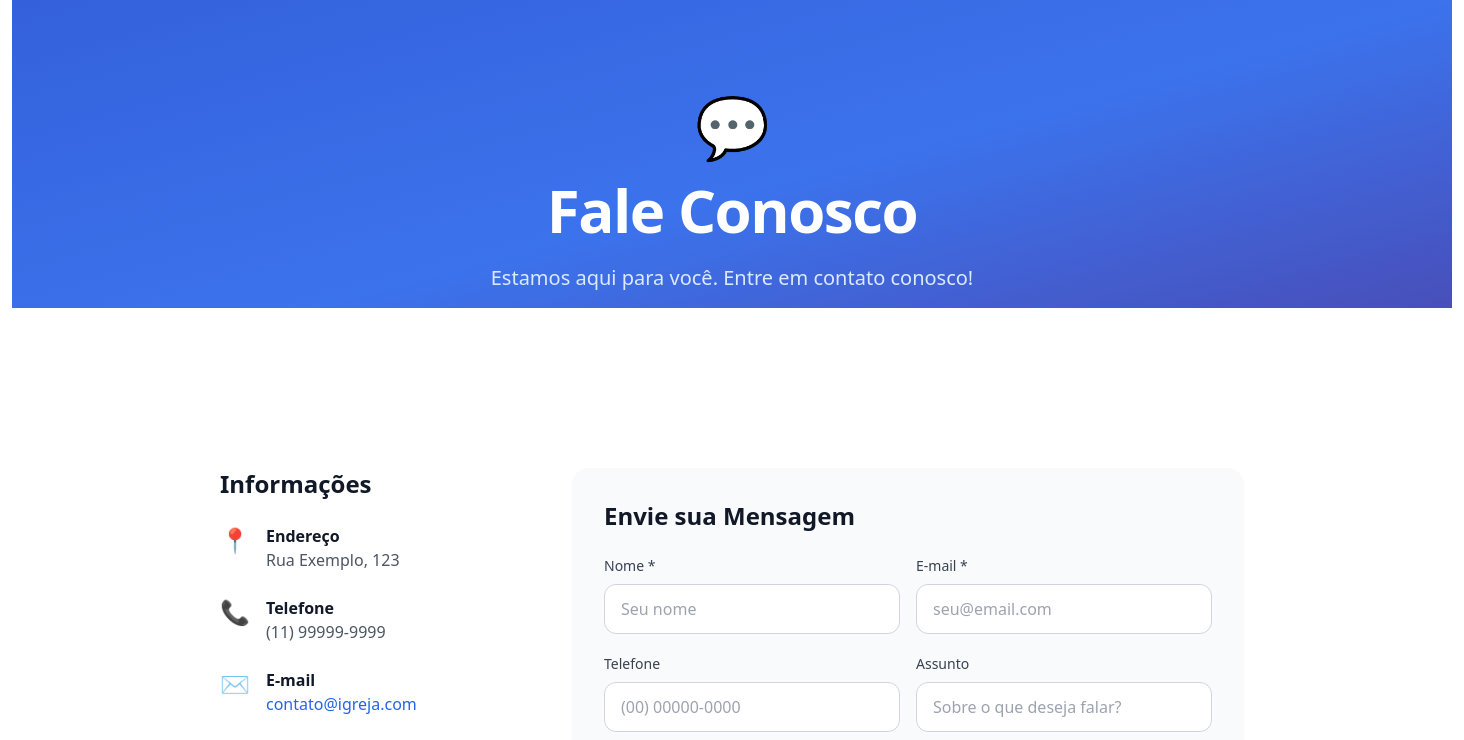
Test case: ContactPage › Form Validation › should show error when name is empty
In the field with placeholder "seu@email.com": (1064, 609) [916, 584, 1212, 634], type "john@example.com"
(page scrolled)
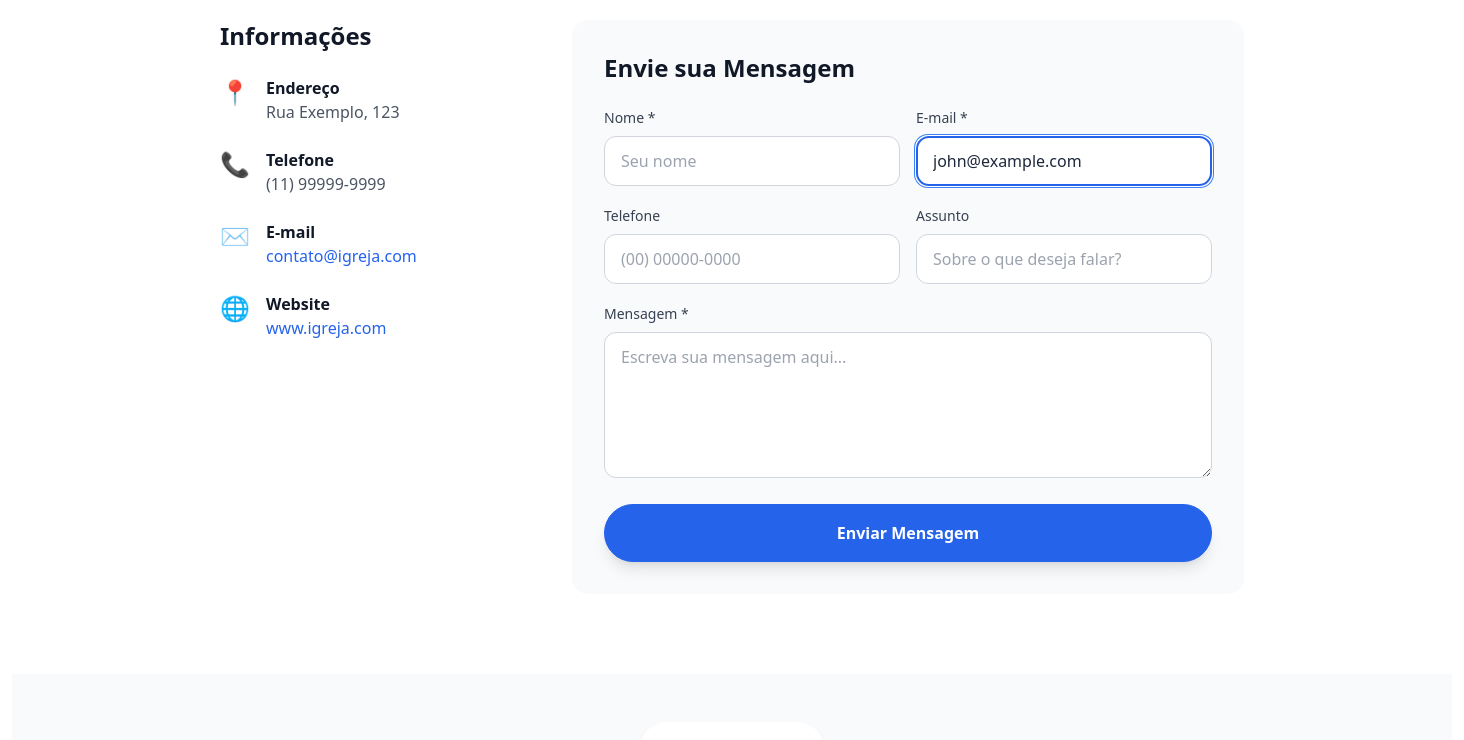
In the text box with placeholder "Escreva sua mensagem aqui...": (908, 405) [604, 332, 1212, 478], type "Test message"
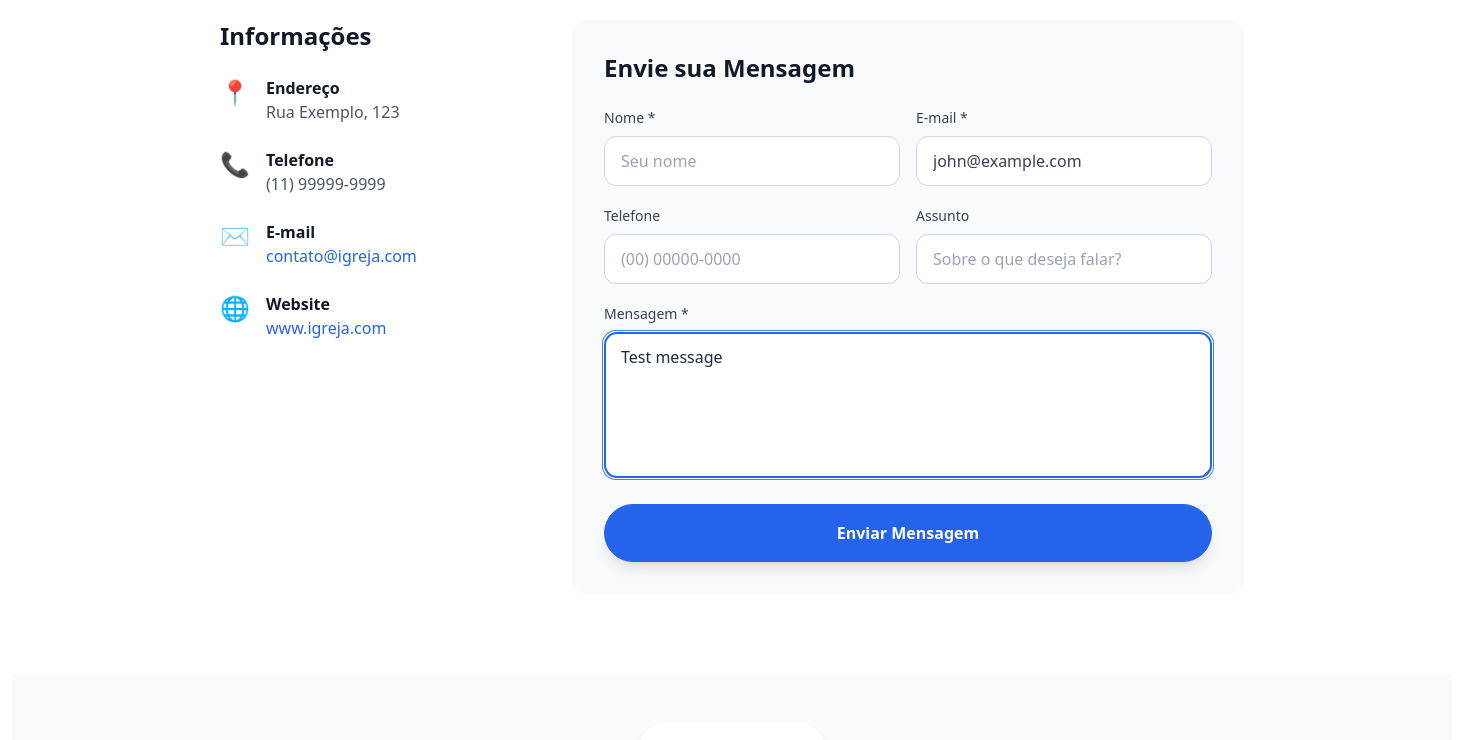
Click the button "Enviar Mensagem": (908, 533) [604, 504, 1212, 562]
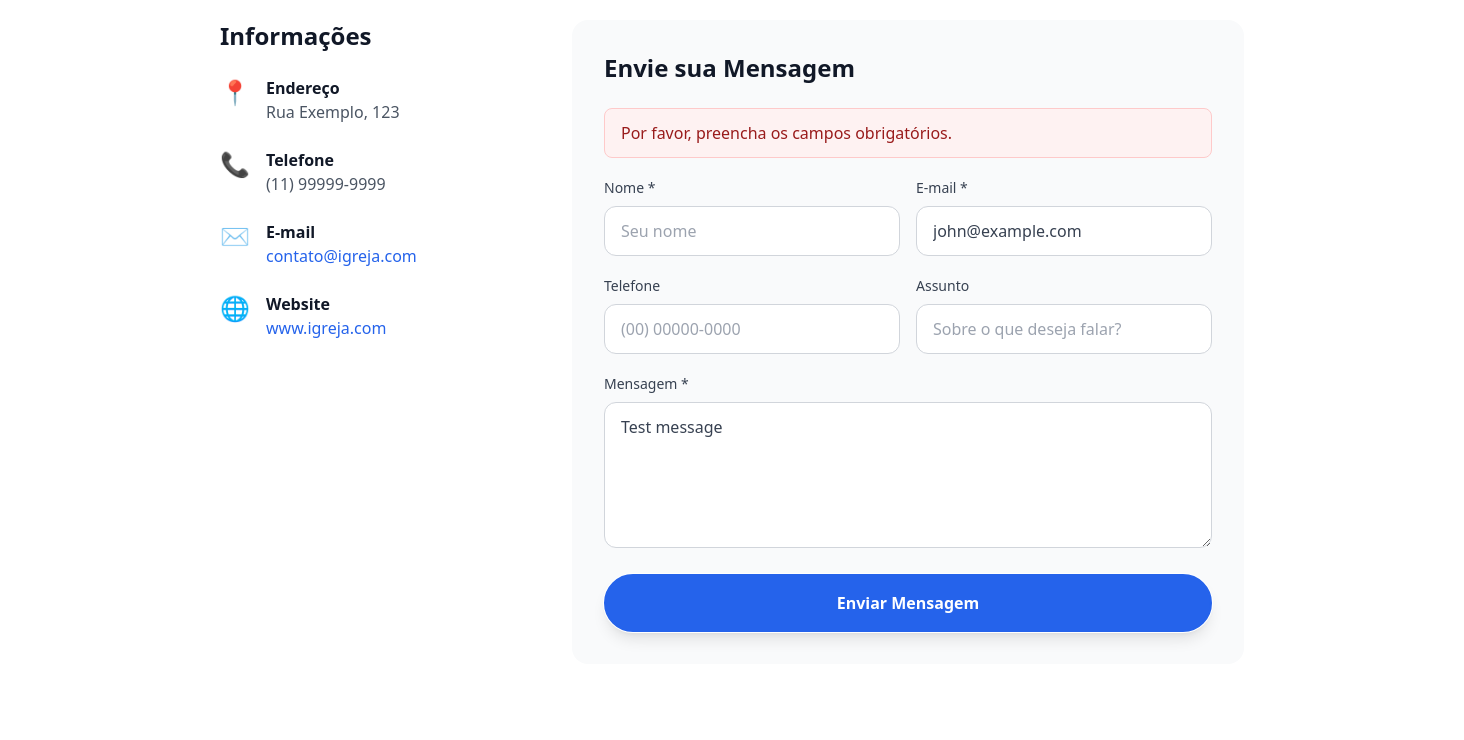
expect the text "Por favor, preencha os campos obrigatórios." is shown: met, box [604, 108, 1212, 158]
